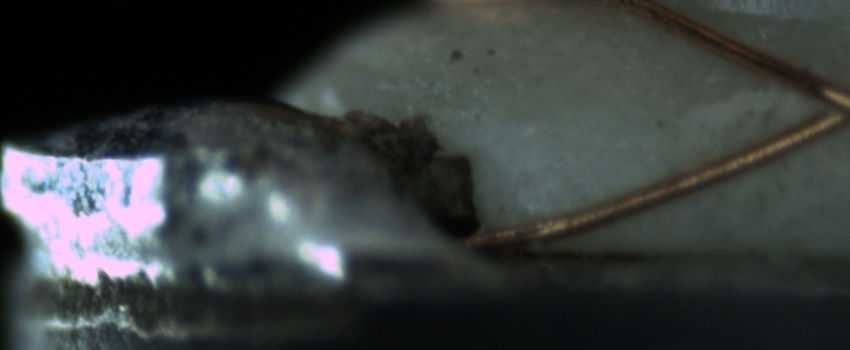CL: (773, 63, 850, 142)
